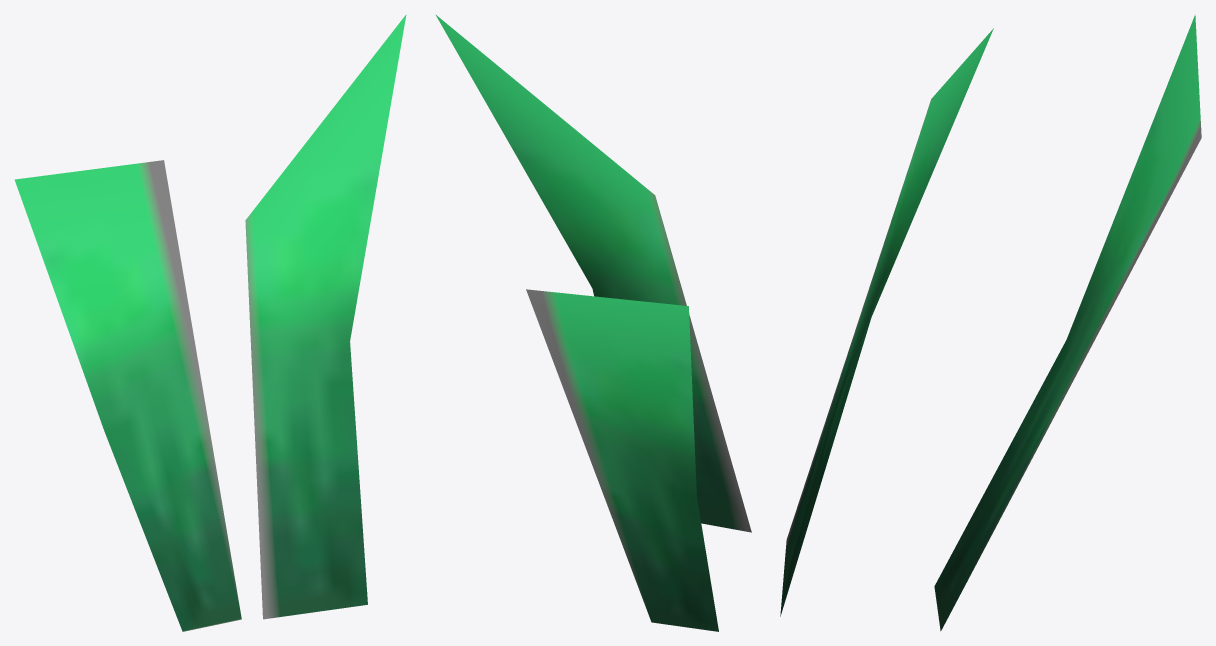
File: fg_grassC.dae
3 renders of one model, left to right at view 1: azimuth 30°, elevation 25°; view 2: azimuth 150°, elevation 25°; view 3: azimuth 270°, elevation 25°, orthographic. The views are drawn at different scales.
Parts seen in each view (by area): view 1: fg_grassC; view 2: fg_grassC; view 3: fg_grassC.
Boxes of the visible parts, x1,y1,x2,y2 form: fg_grassC: [14, 14, 406, 631]; fg_grassC: [435, 14, 751, 631]; fg_grassC: [780, 15, 1201, 631].
Size of the model in its own units: 14.53 by 23.97 by 12.64.
1 material, 1 textured.
